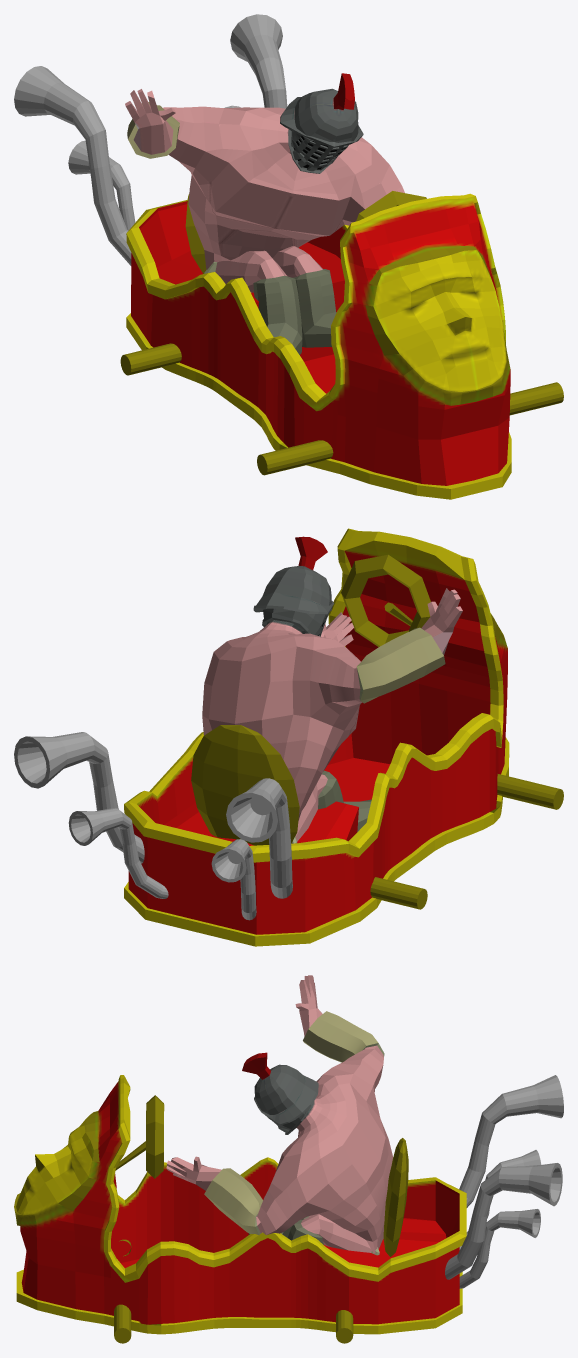
The model's file is GladiLanzamiento_000523.obj.
The picture shows the model from 3 angles, top to bottom: view 1: azimuth 30°, elevation 25°; view 2: azimuth 150°, elevation 25°; view 3: azimuth 270°, elevation 25°; orthographic projection. The views are drawn at different scales.
Visible parts, largest first — view 1: GladiChasis_GladiChasisH, Gadiador_Gladiador_H.001, GladiTubos_GladiTubosH, GladiVolante_GladiVolanteH; view 2: GladiChasis_GladiChasisH, Gadiador_Gladiador_H.001, GladiTubos_GladiTubosH, GladiVolante_GladiVolanteH; view 3: GladiChasis_GladiChasisH, Gadiador_Gladiador_H.001, GladiTubos_GladiTubosH, GladiVolante_GladiVolanteH.
Part boxes in pixels (x1,y1,x2,y2): GladiChasis_GladiChasisH: (126,193,511,499); Gadiador_Gladiador_H.001: (125,73,404,354); GladiTubos_GladiTubosH: (14,14,287,265); GladiVolante_GladiVolanteH: (120,191,563,475); GladiChasis_GladiChasisH: (124,528,509,946); Gadiador_Gladiador_H.001: (202,536,462,843); GladiTubos_GladiTubosH: (14,732,292,920); GladiVolante_GladiVolanteH: (191,554,563,909); GladiChasis_GladiChasisH: (14,1075,466,1334); Gadiador_Gladiador_H.001: (166,975,393,1255); GladiTubos_GladiTubosH: (445,1075,563,1288); GladiVolante_GladiVolanteH: (114,1095,408,1343).
Size of the model in its own units: 5.83 by 5.48 by 10.78.
